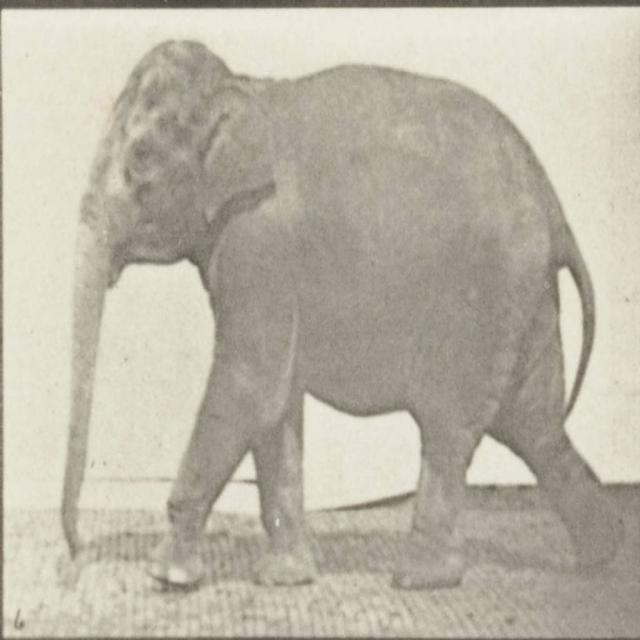elephant: (54, 12, 608, 589)
